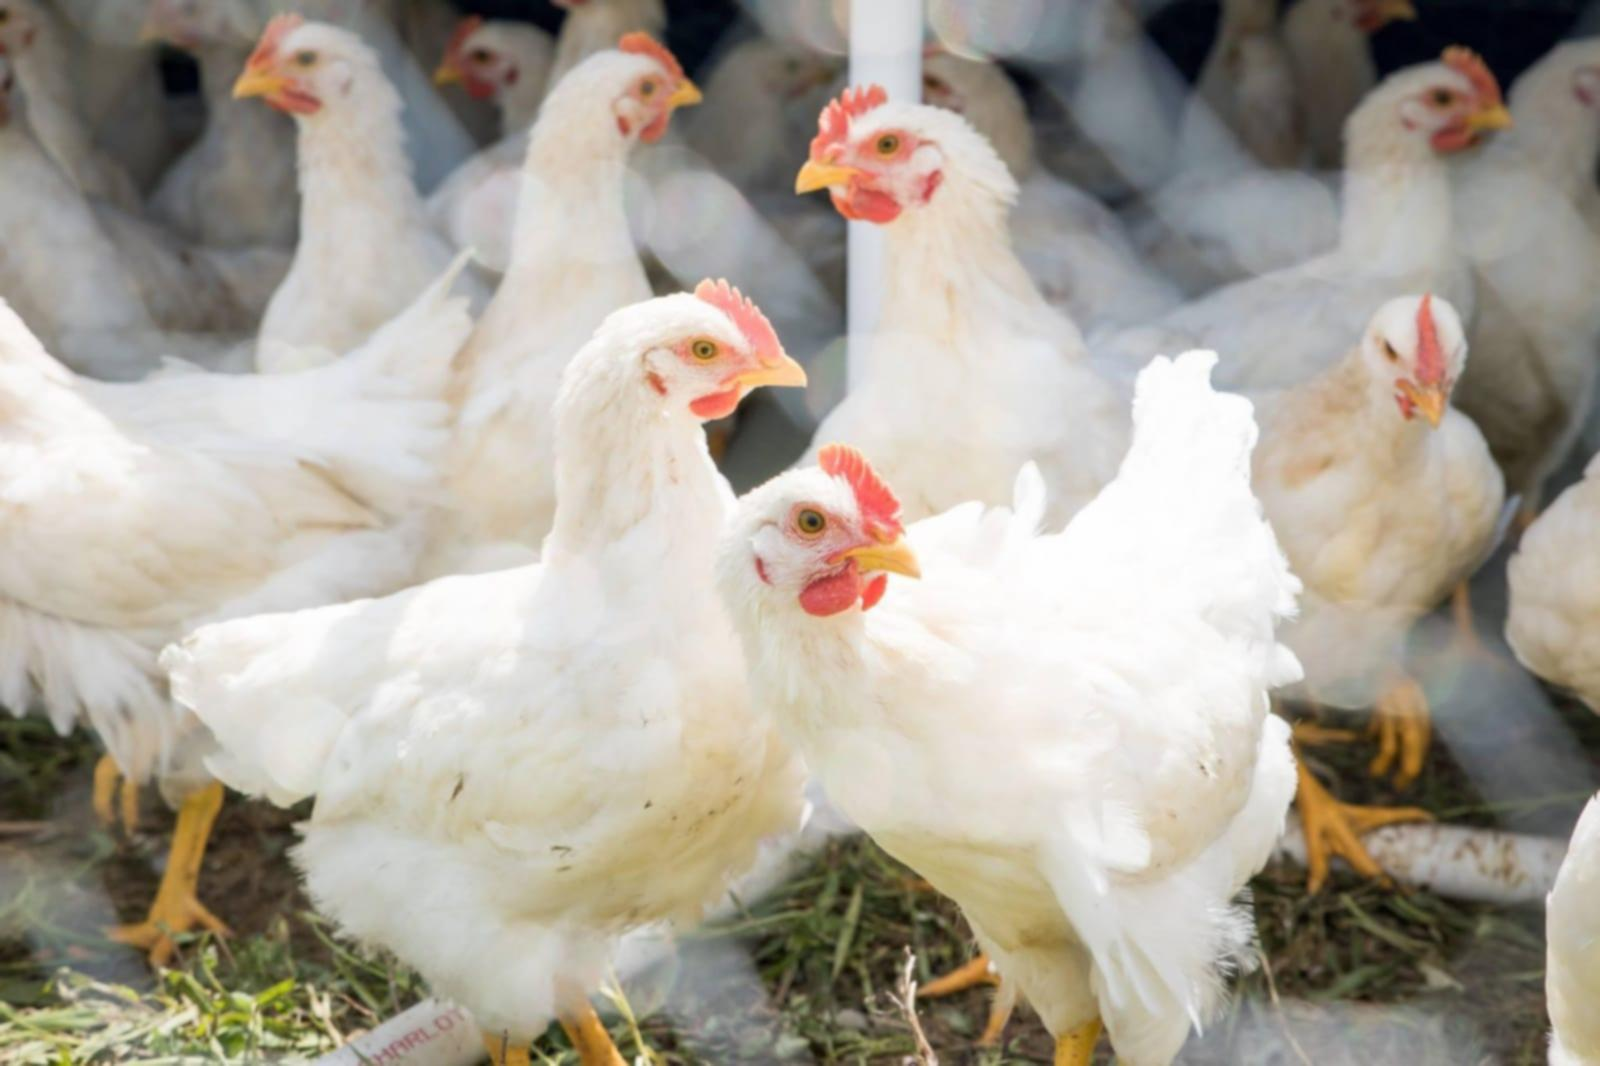Healthy: (143, 283, 791, 1001), (713, 424, 1313, 1037)
